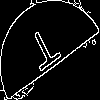T: (25, 25, 66, 80)
